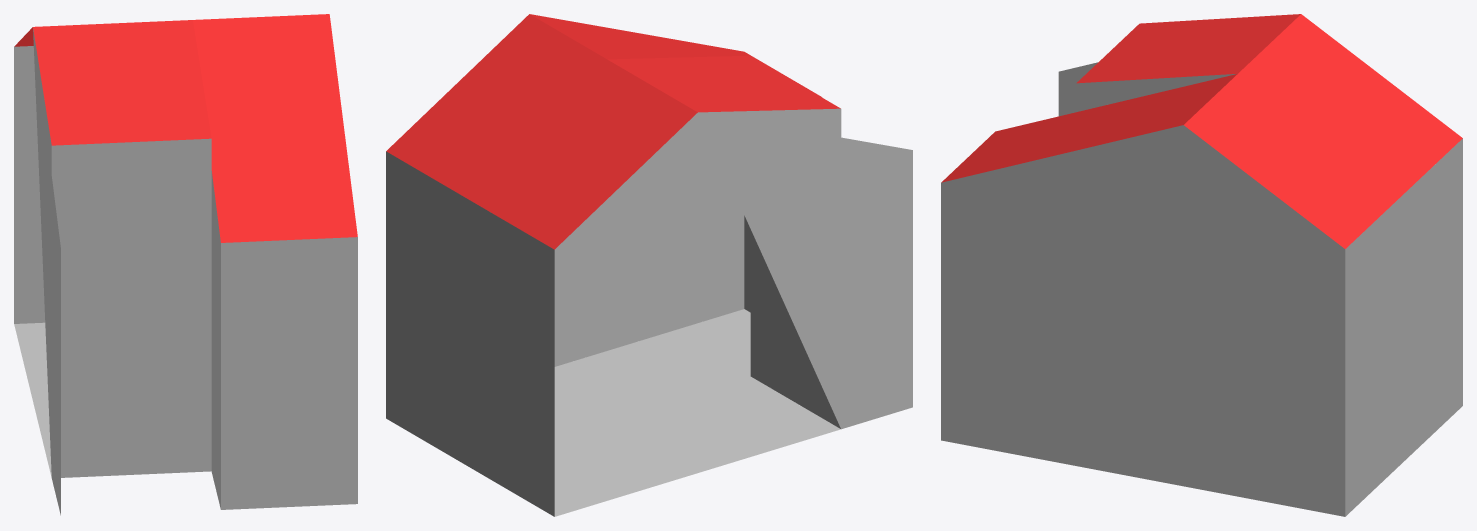
The model's file is pb-9635e7ea-7f36-11f0-af8d-9c7bef4dcf4c.dae.
3 renders of one model, left to right at view 1: azimuth 30°, elevation 25°; view 2: azimuth 150°, elevation 25°; view 3: azimuth 270°, elevation 25°, orthographic. The views are drawn at different scales.
Bounding box in the file's own units: 10.02 × 11.78 × 9.
